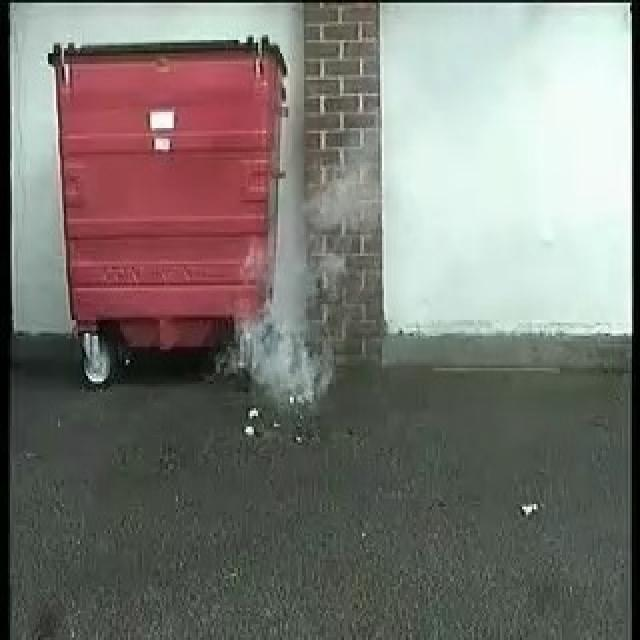Smoke: (236, 210, 336, 402)
